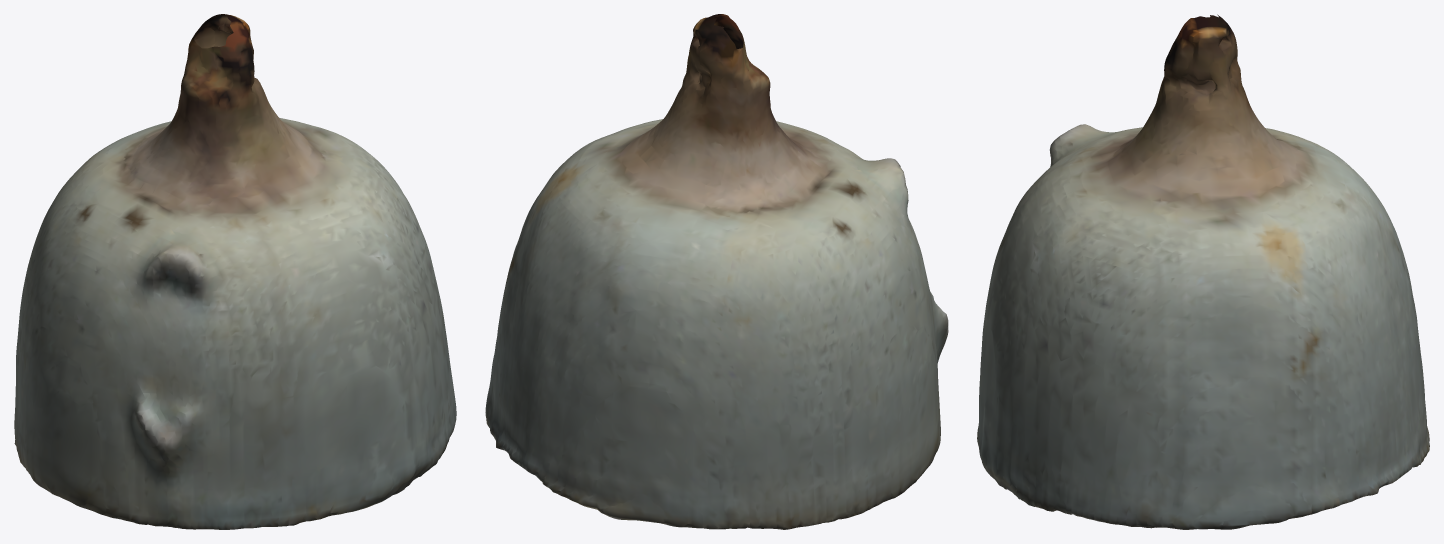
Rendered from baekja_3d.glb.
The picture shows the model from 3 angles, left to right: view 1: azimuth 30°, elevation 25°; view 2: azimuth 150°, elevation 25°; view 3: azimuth 270°, elevation 25°; orthographic projection. The views are drawn at different scales.
Visible parts, largest first — view 1: Mesh; view 2: Mesh; view 3: Mesh.
Boxes of the visible parts, x1,y1,x2,y2 form: Mesh: (14,14,456,529); Mesh: (485,14,948,529); Mesh: (977,14,1429,529).
Bounding box in the file's own units: 0.0702 × 0.0739 × 0.0688.
